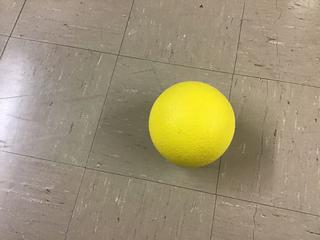power_cell: (142, 74, 244, 171)
